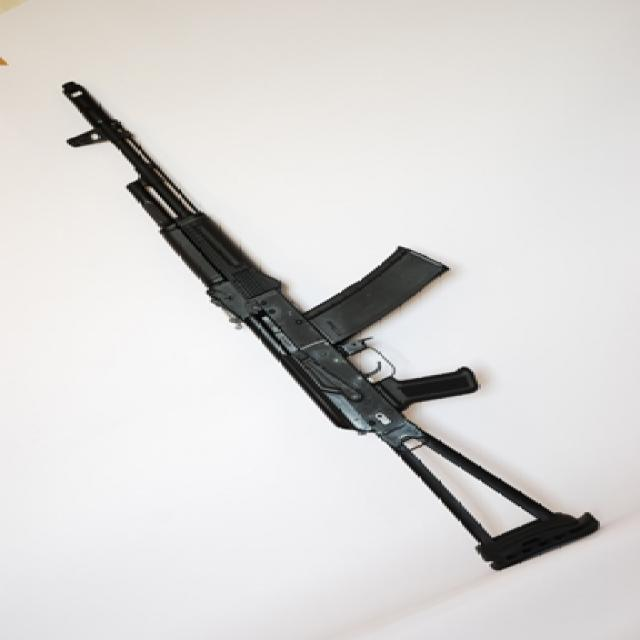weapon: (60, 80, 605, 576)
